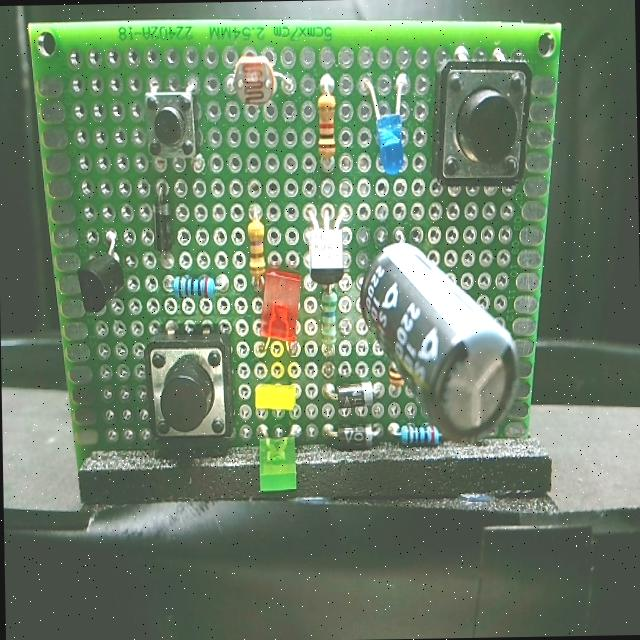Electrolytic capacitor: (356, 220, 526, 448)
cds: (226, 49, 282, 109)
diode: (140, 182, 183, 262), (325, 368, 373, 411), (330, 421, 377, 448)
led: (364, 88, 415, 181), (260, 268, 306, 344), (256, 432, 304, 498), (252, 378, 300, 416)
resistor: (313, 84, 347, 166), (391, 412, 446, 454), (164, 270, 220, 304), (316, 284, 342, 356), (246, 214, 268, 282), (384, 358, 404, 393)
switch: (428, 50, 534, 196), (138, 327, 238, 453), (141, 86, 200, 158)
transistor: (305, 205, 351, 285), (75, 249, 123, 310)
